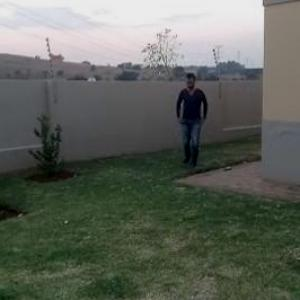follow: (175, 70, 210, 172)
